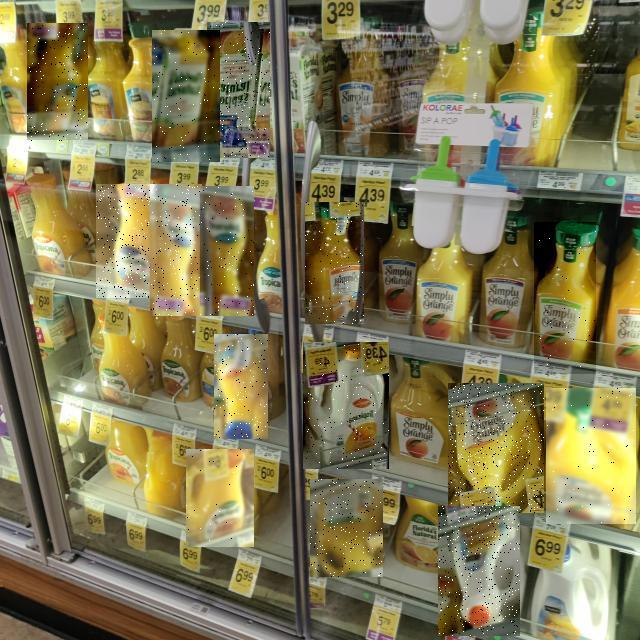Juice: (448, 383, 544, 513), (546, 388, 636, 524), (303, 342, 389, 469), (438, 507, 520, 637), (534, 222, 596, 374), (152, 31, 220, 163), (207, 22, 270, 158), (305, 202, 364, 324), (27, 24, 88, 142), (310, 479, 383, 577), (200, 186, 254, 316), (150, 185, 202, 317), (97, 184, 157, 298), (186, 449, 254, 547), (214, 334, 268, 439)
